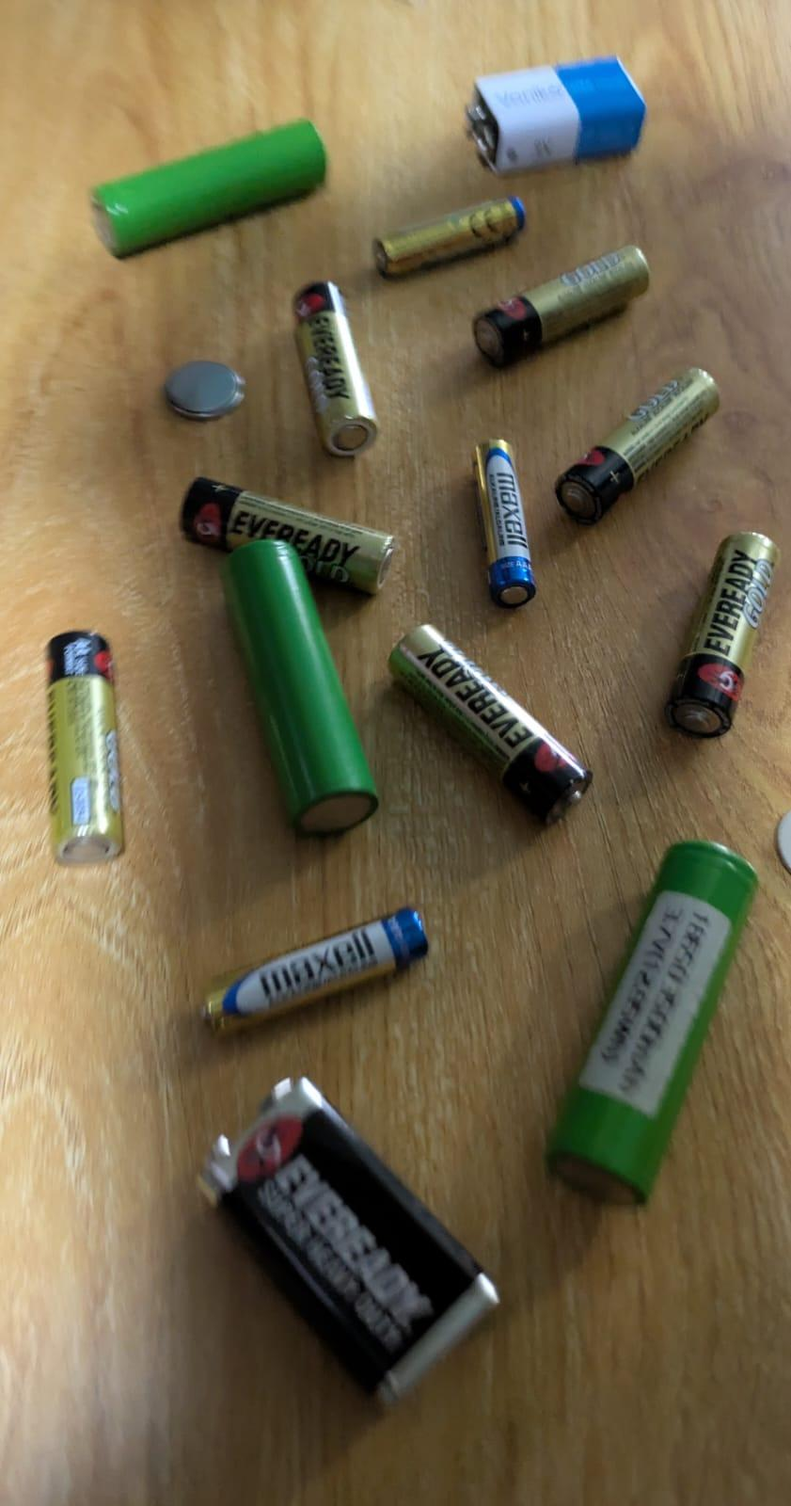9V: (193, 1075, 496, 1402), (466, 56, 648, 177)
AA: (386, 621, 592, 826), (551, 365, 717, 526), (179, 476, 395, 596), (660, 535, 782, 740), (470, 244, 650, 370), (44, 632, 126, 865), (289, 279, 381, 458)
AAA: (189, 895, 443, 1061), (359, 179, 537, 286), (448, 414, 543, 612)
COIN: (162, 359, 247, 422)
